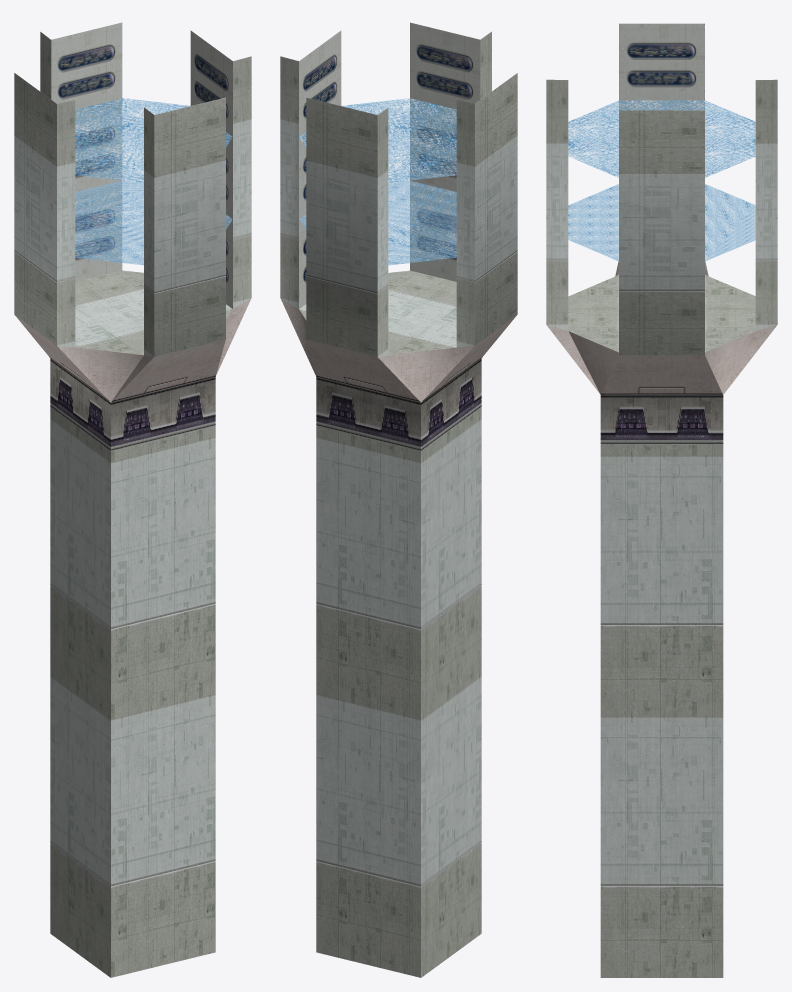
Rendered from bes2_bldg_skywaysupport.glb.
The picture shows the model from 3 angles, left to right: view 1: azimuth 30°, elevation 25°; view 2: azimuth 150°, elevation 25°; view 3: azimuth 270°, elevation 25°; orthographic projection.
Visible parts, largest first — view 1: mesh_part3, mesh_part4, mesh_part1, mesh_part2; view 2: mesh_part3, mesh_part4, mesh_part1, mesh_part2; view 3: mesh_part3, mesh_part4, mesh_part1, mesh_part2.
Boxes of the visible parts, x1,y1,x2,y2 form: mesh_part3: (14, 32, 251, 977); mesh_part4: (50, 22, 232, 451); mesh_part1: (75, 98, 232, 265); mesh_part2: (15, 298, 251, 402); mesh_part3: (280, 31, 517, 977); mesh_part4: (299, 22, 481, 451); mesh_part1: (299, 98, 456, 265); mesh_part2: (280, 298, 516, 402); mesh_part3: (546, 79, 777, 977); mesh_part4: (600, 23, 723, 444); mesh_part1: (568, 100, 755, 261); mesh_part2: (547, 261, 776, 394).
Size of the model in its own units: 3.72 by 16.03 by 3.78.
4 materials, 4 textured.
